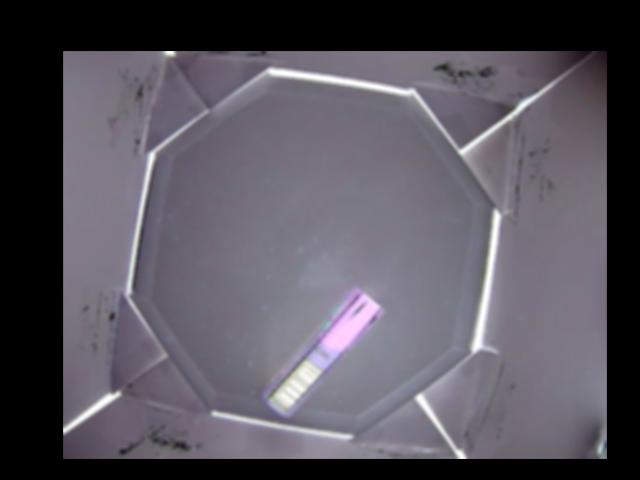Bottle: (257, 284, 385, 417)
